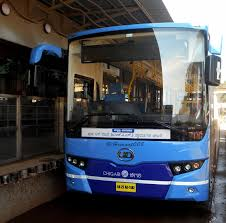Chigari: (25, 20, 226, 210)
